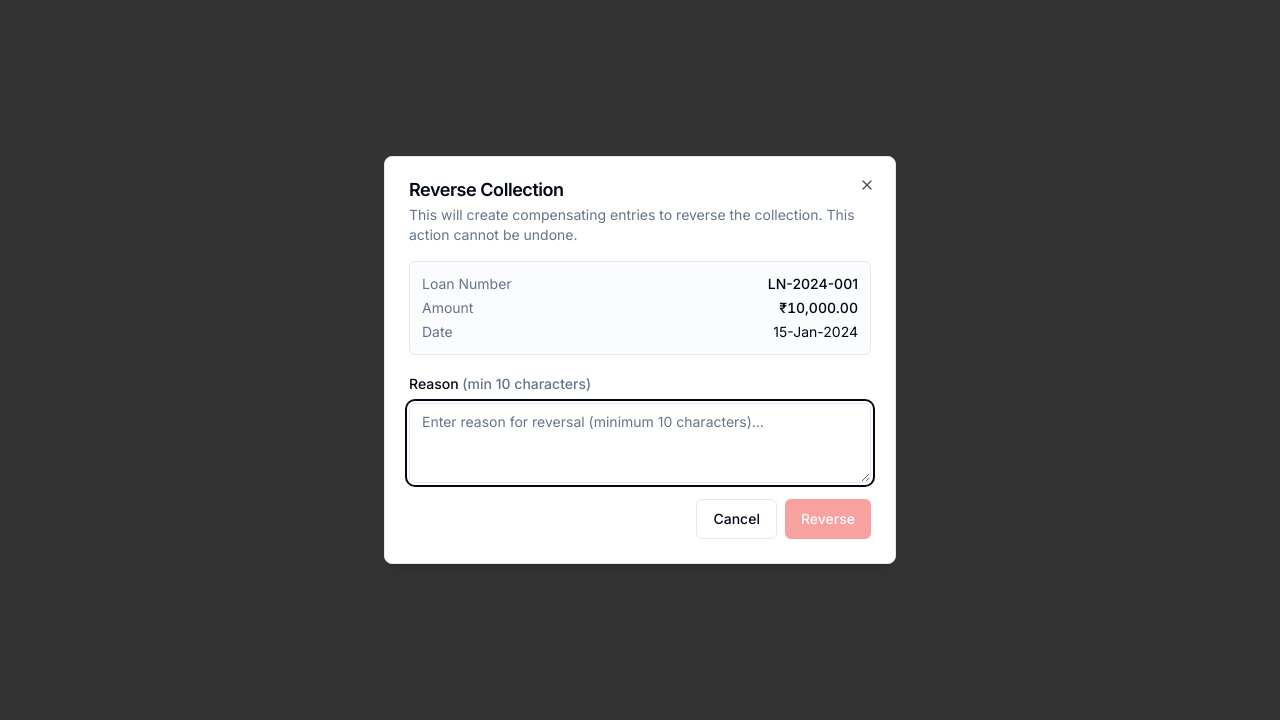
it: ReversalDialog › Error Handling › displays fallback error message when error has no message
Step 1. Type "Valid reason text" into the text box → (640, 443), box [409,403,871,483]
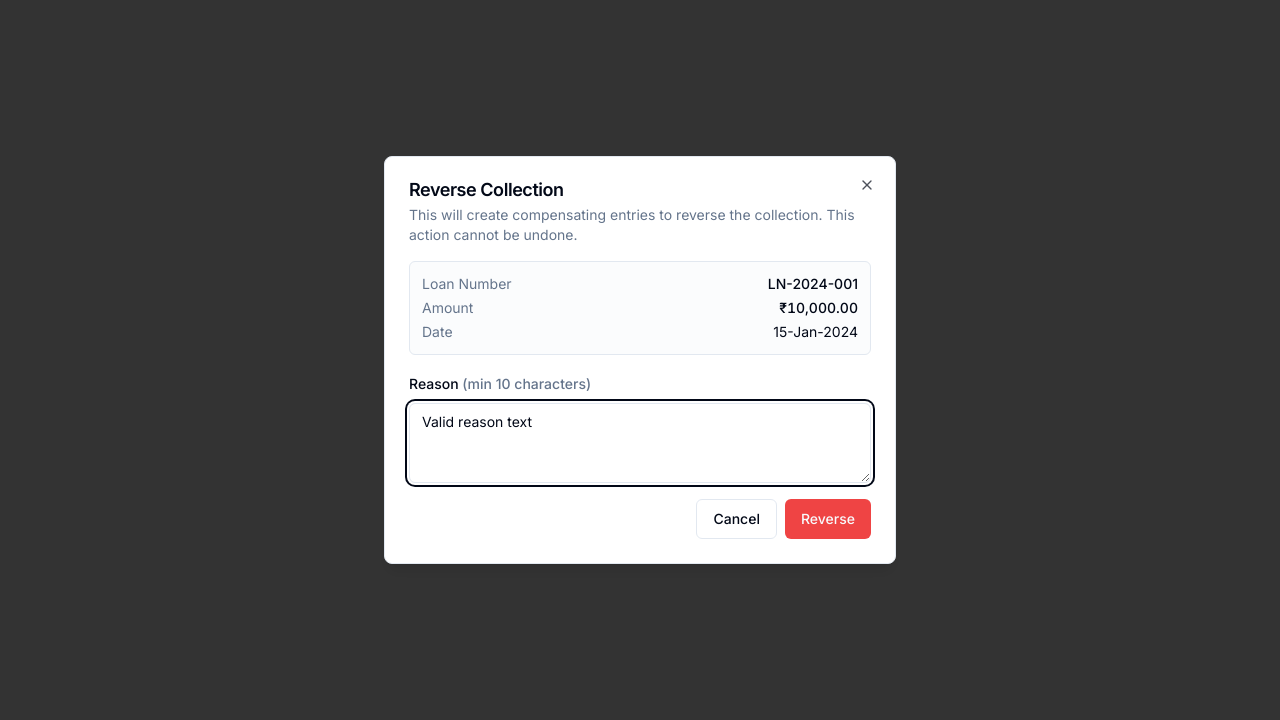
Step 2. Click the button "Reverse" → (828, 519), box [785,499,871,539]
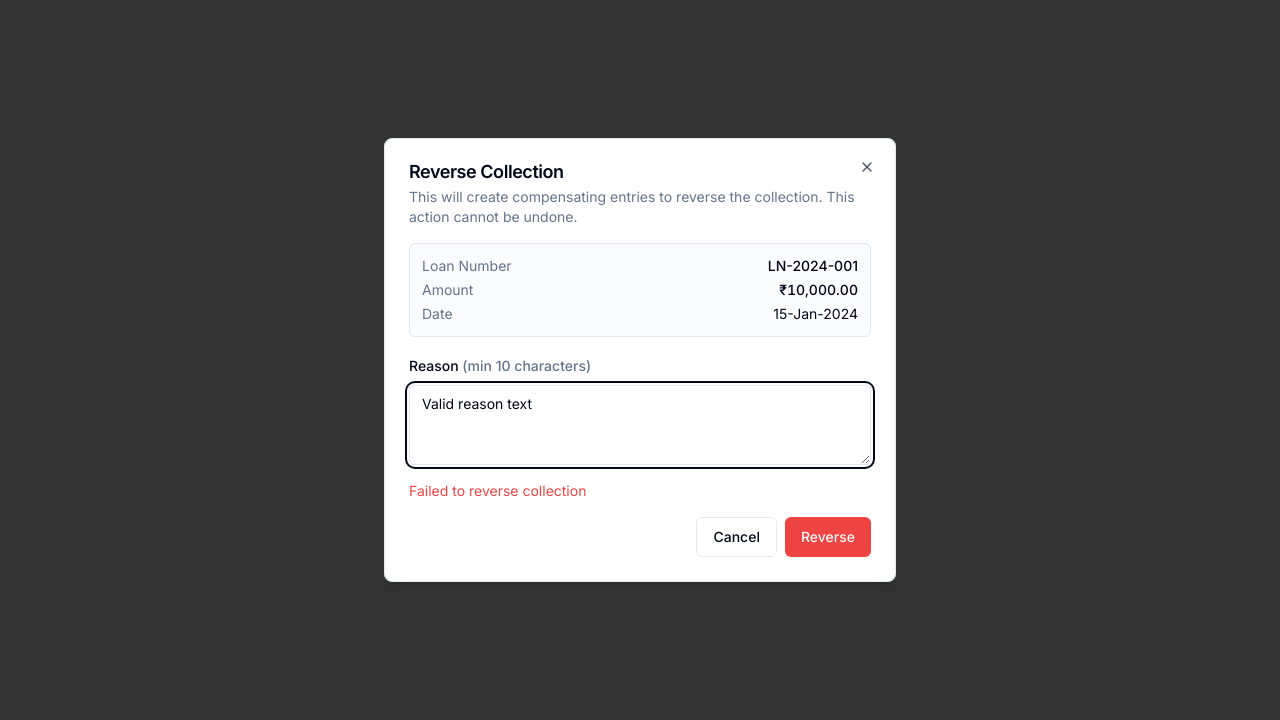
Result: the text "Failed to reverse collection" is shown at [409,482,586,499]
